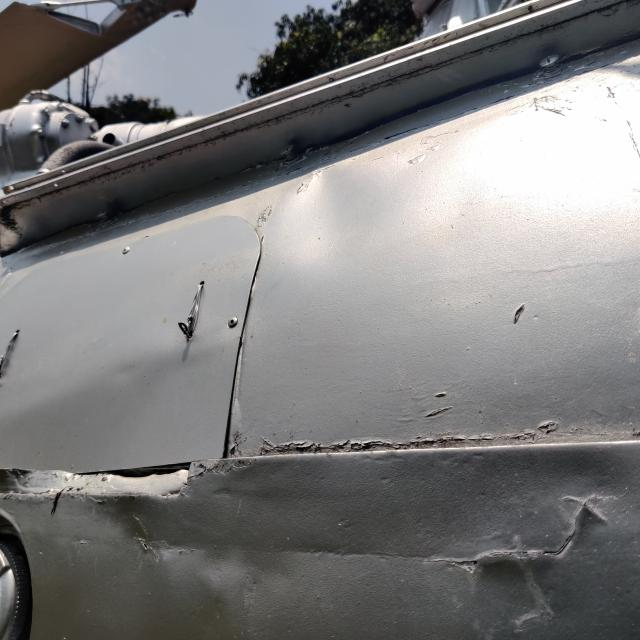crack: (424, 483, 621, 588), (125, 510, 170, 567)
dent: (273, 143, 395, 282)
